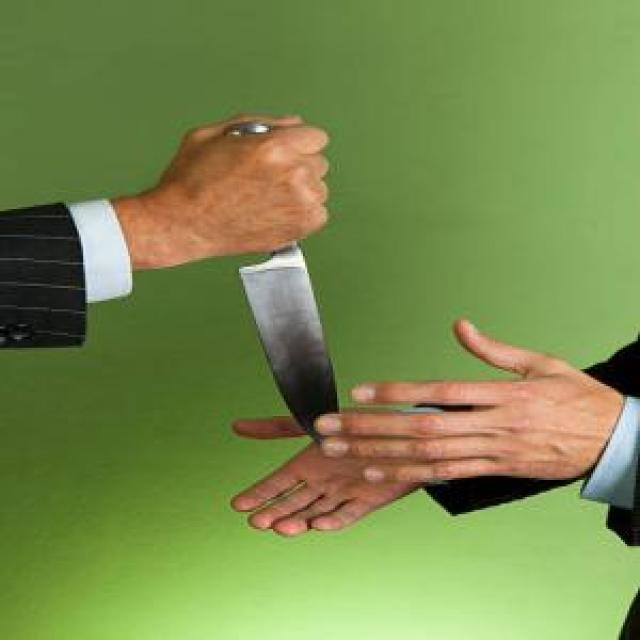knife: (220, 120, 342, 452)
